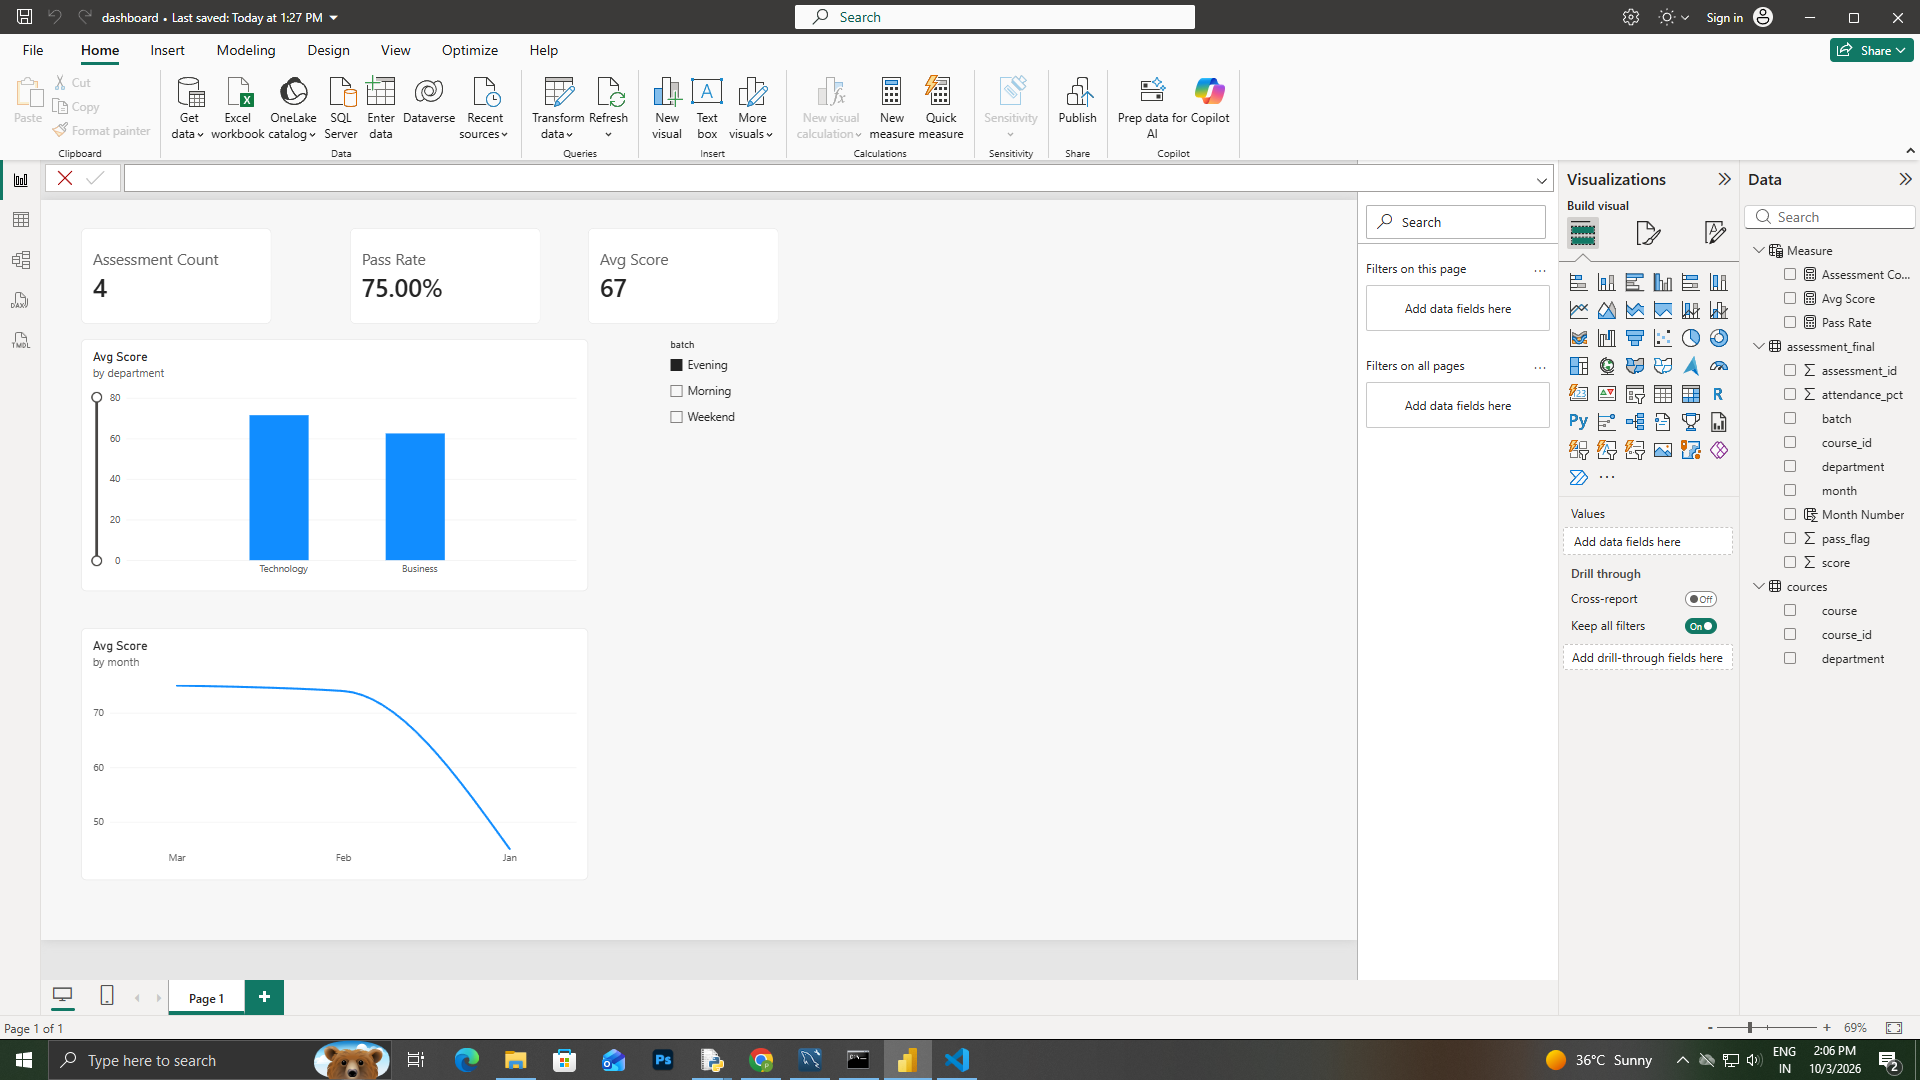

What the dashboard file says about the page in this screenshot:
{"tool":"powerbi","page":{"name":"Page 1","canvas":[1920,1080],"ordinal":0},"visuals":[{"type":"cardVisual","fields":{"Data":["Measure.Assessment Count"]},"box":[58.4,40.9,278.7,140.1],"z":0},{"type":"cardVisual","fields":{"Data":["Measure.Pass Rate"]},"box":[450.8,40.9,278.7,140.1],"z":1},{"type":"clusteredColumnChart","fields":{"Category":["cources.department"],"Y":["Measure.Avg Score"]},"box":[58.4,202.8,739.7,367.7],"z":2},{"type":"lineChart","fields":{"Category":["assessment_final.month"],"Y":["Measure.Avg Score"]},"box":[58.4,624.4,739.7,367.7],"z":3},{"type":"slicer","fields":{"Values":["assessment_final.batch"]},"box":[910.4,202.8,166.3,137.1],"z":4},{"type":"cardVisual","fields":{"Data":["Measure.Avg Score"]},"box":[798.1,40.9,278.7,140.1],"z":5}]}

Visuals, with their boxes on the page's 1920x1080 design canvas (x1, y1, x2, y2). These are canvas units, not pixel positions in the 1920x1080 screenshot, which may show the page scaled, cropped or inside an application window:
cardVisual - Measure.Assessment Count: 58, 41, 337, 181
cardVisual - Measure.Pass Rate: 451, 41, 730, 181
clusteredColumnChart - cources.department x Measure.Avg Score: 58, 203, 798, 570
lineChart - assessment_final.month x Measure.Avg Score: 58, 624, 798, 992
slicer - assessment_final.batch: 910, 203, 1077, 340
cardVisual - Measure.Avg Score: 798, 41, 1077, 181
